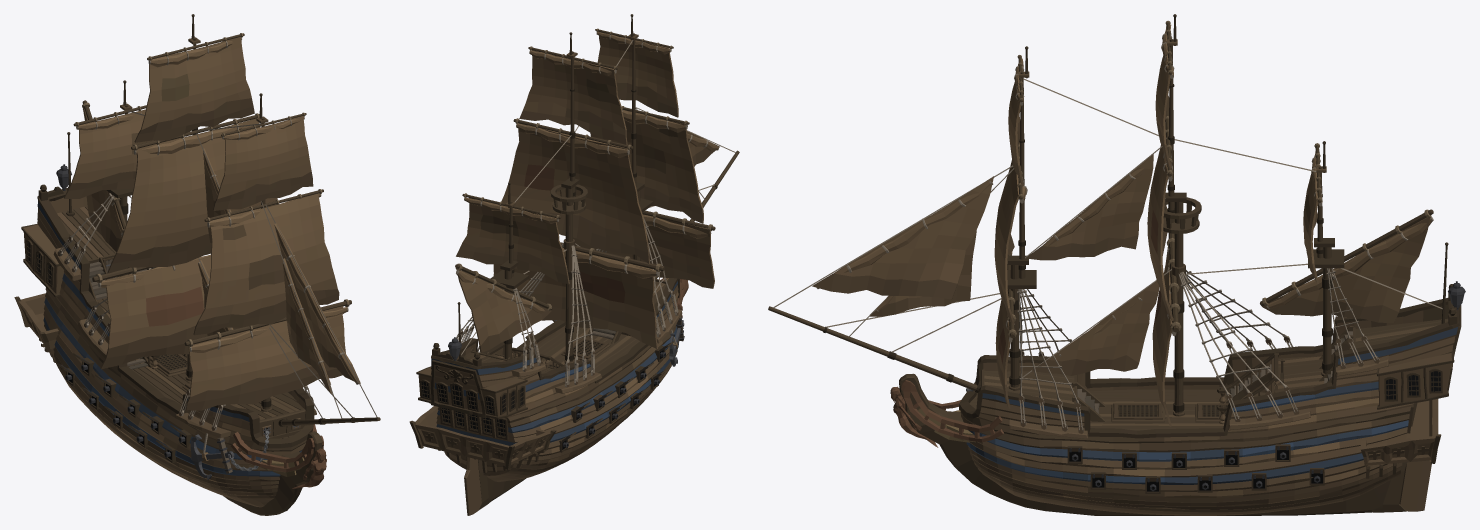
The model's file is SM_Veh_Boat_Warship_01_Hull_Pirate.glb.
3 renders of one model, left to right at view 1: azimuth 30°, elevation 25°; view 2: azimuth 150°, elevation 25°; view 3: azimuth 270°, elevation 25°, orthographic. The views are drawn at different scales.
Parts seen in each view (by area): view 1: SM_Veh_Boat_Warship_01_Mast_SailUp_03_Pirate; view 2: SM_Veh_Boat_Warship_01_Mast_SailUp_03_Pirate; view 3: SM_Veh_Boat_Warship_01_Mast_SailUp_03_Pirate.
Part boxes in pixels (x1=…): SM_Veh_Boat_Warship_01_Mast_SailUp_03_Pirate: x1=14, y1=14, x2=380, y2=515; SM_Veh_Boat_Warship_01_Mast_SailUp_03_Pirate: x1=409, y1=14, x2=739, y2=515; SM_Veh_Boat_Warship_01_Mast_SailUp_03_Pirate: x1=768, y1=14, x2=1465, y2=515.
Bounding box in the file's own units: 0.1459 × 0.315 × 0.3975.
